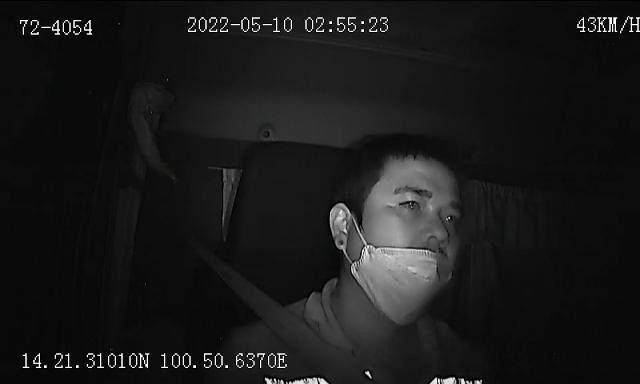SafeDriving: (392, 192, 426, 216), (436, 203, 465, 229)
Seatbelt: (207, 232, 331, 384)
